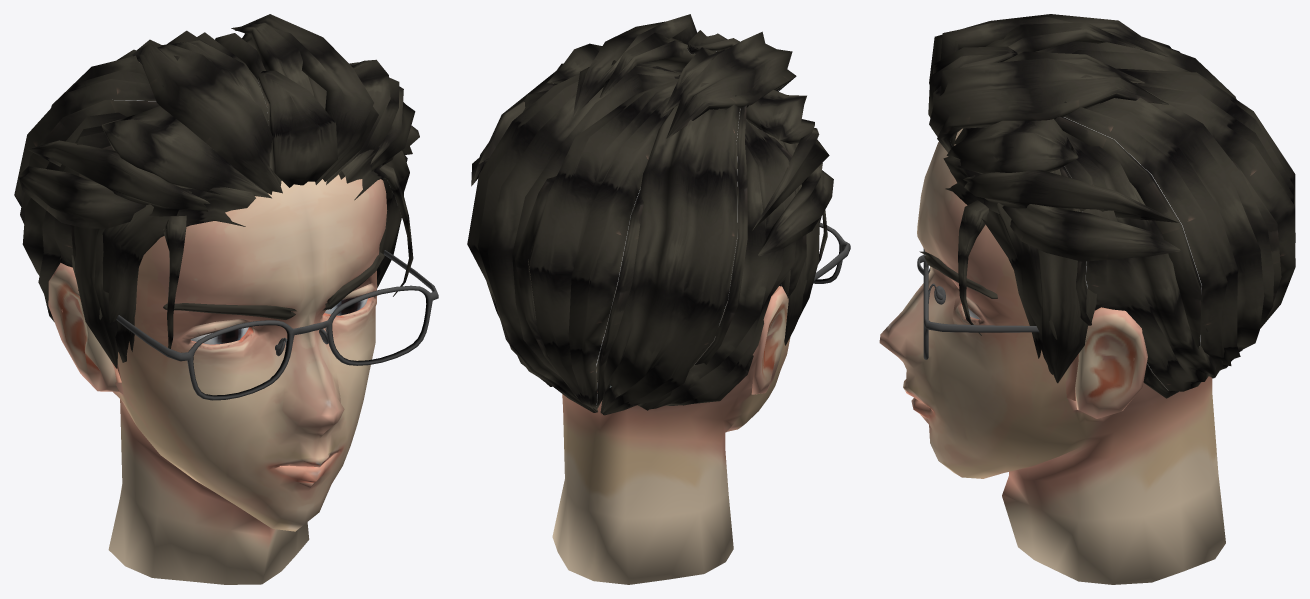
File: Severed_Head.obj
The picture shows the model from 3 angles, left to right: view 1: azimuth 30°, elevation 25°; view 2: azimuth 150°, elevation 25°; view 3: azimuth 270°, elevation 25°; orthographic projection. The views are drawn at different scales.
Parts seen in each view (by area): view 1: bady.001; view 2: bady.001; view 3: bady.001.
Part boxes in pixels (bbox=[...]): bady.001: bbox=[14, 14, 438, 584]; bady.001: bbox=[467, 14, 850, 584]; bady.001: bbox=[879, 14, 1295, 584].
Bounding box in the file's own units: 0.1905 × 0.2714 × 0.2008.
Materials: 1 (1 with a texture image).
